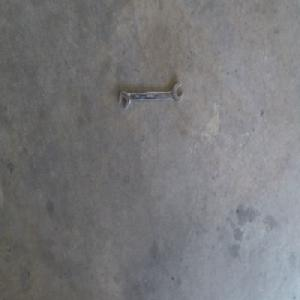Wrench: (117, 82, 183, 110)
